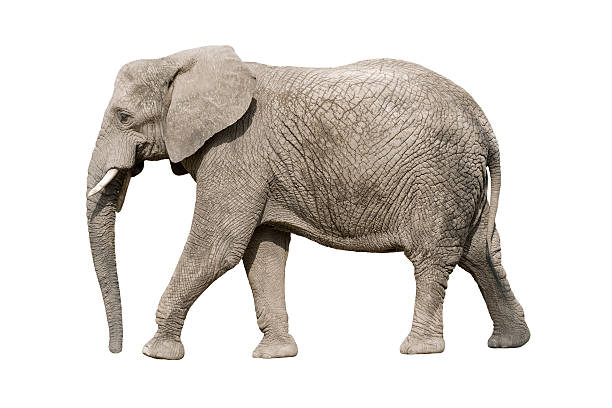africanelephant: (66, 54, 199, 195)
